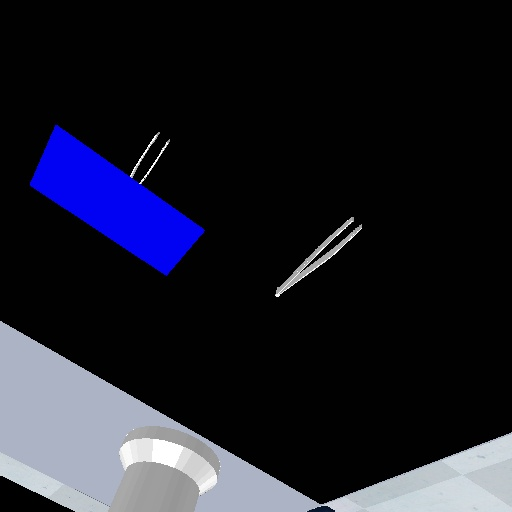pinza: (271, 210, 368, 302), (126, 128, 178, 187)
